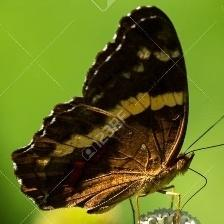butterfly: (12, 7, 195, 214)
